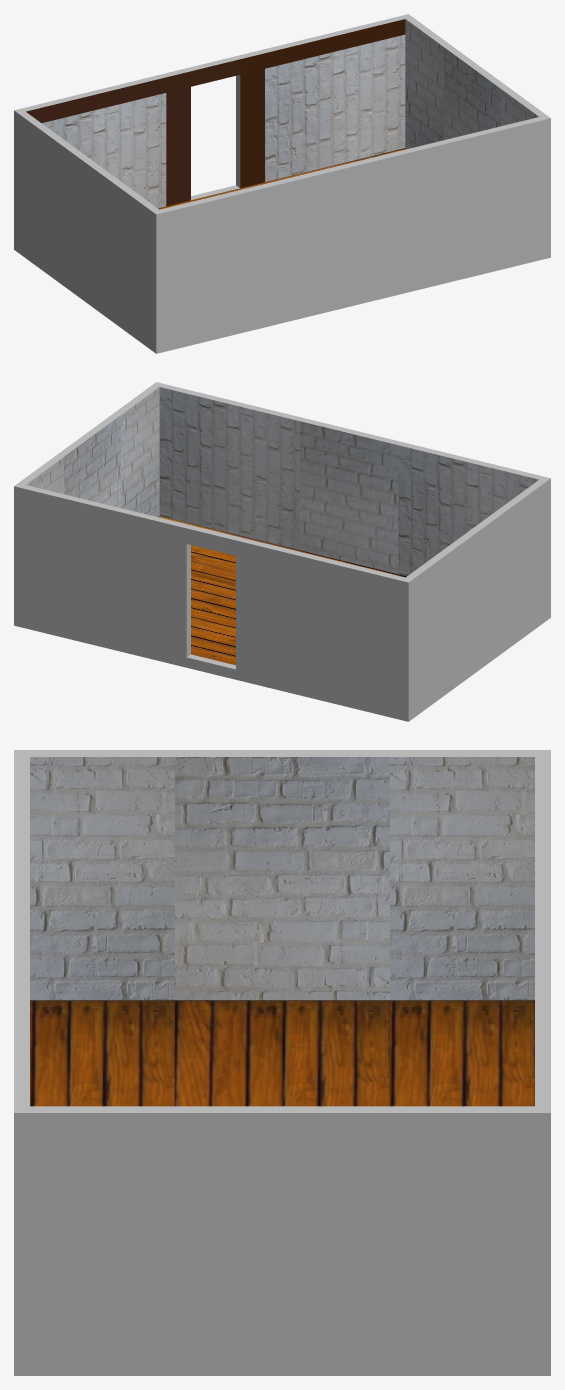
File: room.obj
The picture shows the model from 3 angles, top to bottom: view 1: azimuth 30°, elevation 25°; view 2: azimuth 150°, elevation 25°; view 3: azimuth 270°, elevation 25°; orthographic projection. The views are drawn at different scales.
Visible parts, largest first — view 1: Cube; view 2: Cube; view 3: Cube.
Part boxes in pixels (x1,y1,x2,y2): Cube: (14, 14, 550, 353); Cube: (14, 382, 550, 721); Cube: (14, 750, 550, 1375).
Bounding box in the file's own units: 8 × 2.7 × 5.
4 materials, 3 textured.
